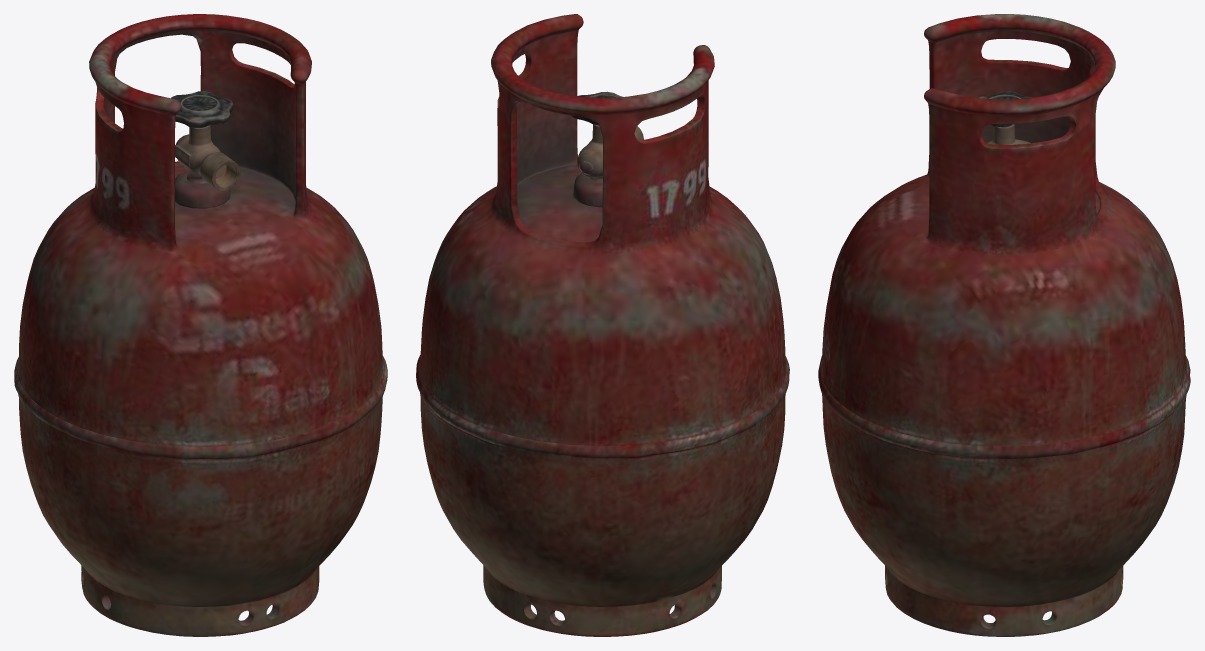
Rendered from bombona.glb.
The picture shows the model from 3 angles, left to right: view 1: azimuth 30°, elevation 25°; view 2: azimuth 150°, elevation 25°; view 3: azimuth 270°, elevation 25°; orthographic projection.
Parts seen in each view (by area): view 1: small_lpg_tank; view 2: small_lpg_tank; view 3: small_lpg_tank.
Part boxes in pixels (left/top/right/bottom): small_lpg_tank: left=14, top=14, right=387, bottom=636; small_lpg_tank: left=416, top=14, right=789, bottom=636; small_lpg_tank: left=818, top=14, right=1190, bottom=636.
Size of the model in its own units: 0.4099 by 0.642 by 0.4093.
1 material, 1 textured.
